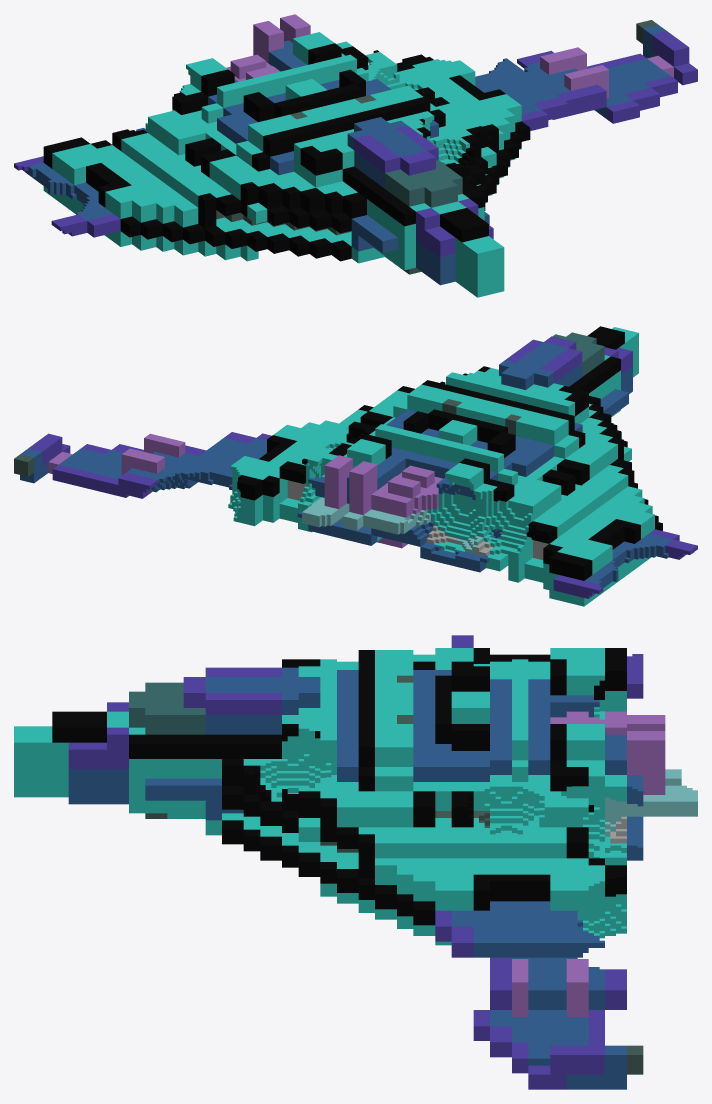
The model's file is SpaceShipMedium-0-0.obj.
The picture shows the model from 3 angles, top to bottom: view 1: azimuth 30°, elevation 25°; view 2: azimuth 150°, elevation 25°; view 3: azimuth 270°, elevation 25°; orthographic projection. The views are drawn at different scales.
Bounding box in the file's own units: 17.5 × 3.1 × 12.5.
1 material, 1 textured.
